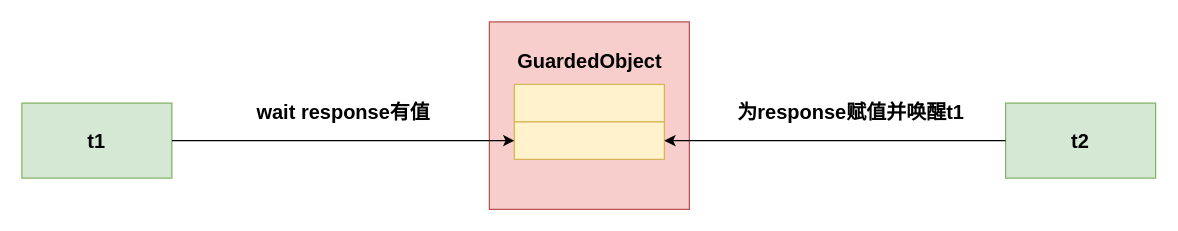
Some shapes in this 1178 by 231 pixel diagram are drawn without their labels. The centre of each missing label's shape, as x and y in pixels:
"id" belongs at pixel 588 102.
"response" belongs at pixel 588 140.
